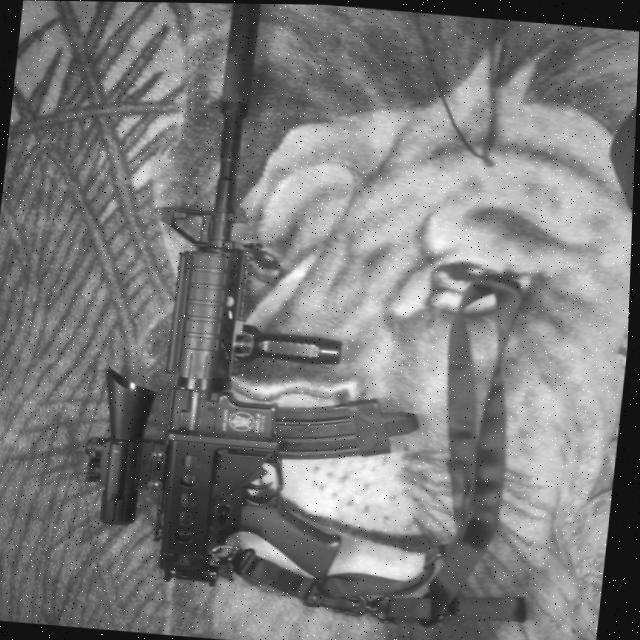firearm: (70, 1, 441, 593)
